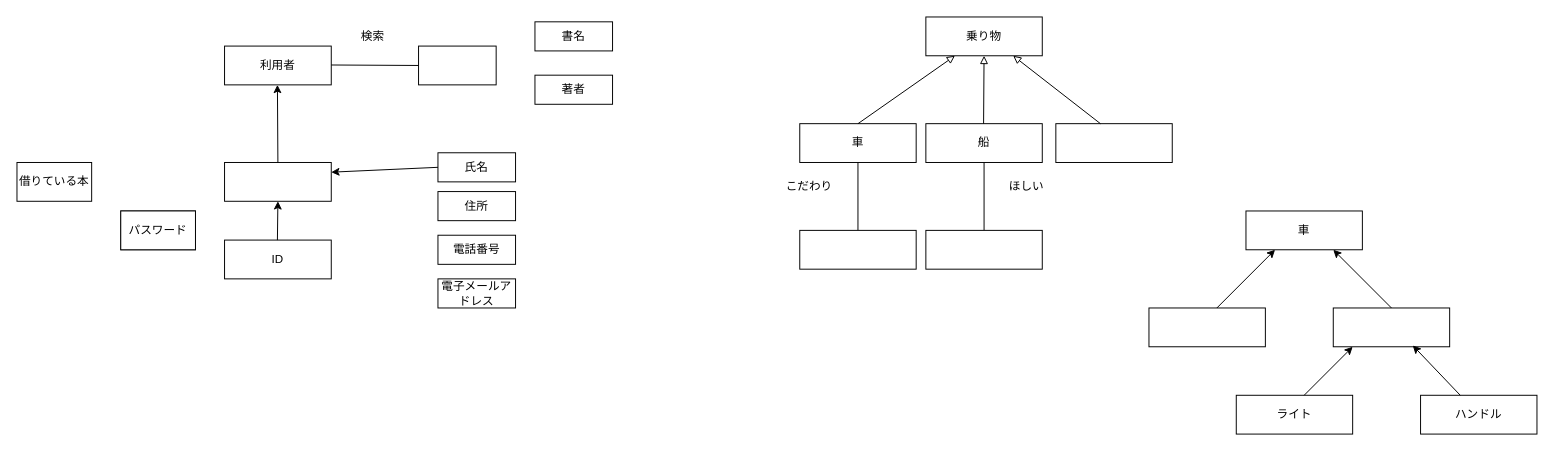
This 1554x451 diagram has some shape labels left out. Each missing label, with the box of its shape:
さこん: (925, 229, 1042, 269)
エンジン: (1148, 307, 1265, 347)
ボディ: (1332, 307, 1450, 347)
図書: (418, 45, 496, 85)
図書カード: (224, 162, 331, 201)
金色: (799, 229, 916, 269)
飛行機: (1055, 123, 1172, 162)
